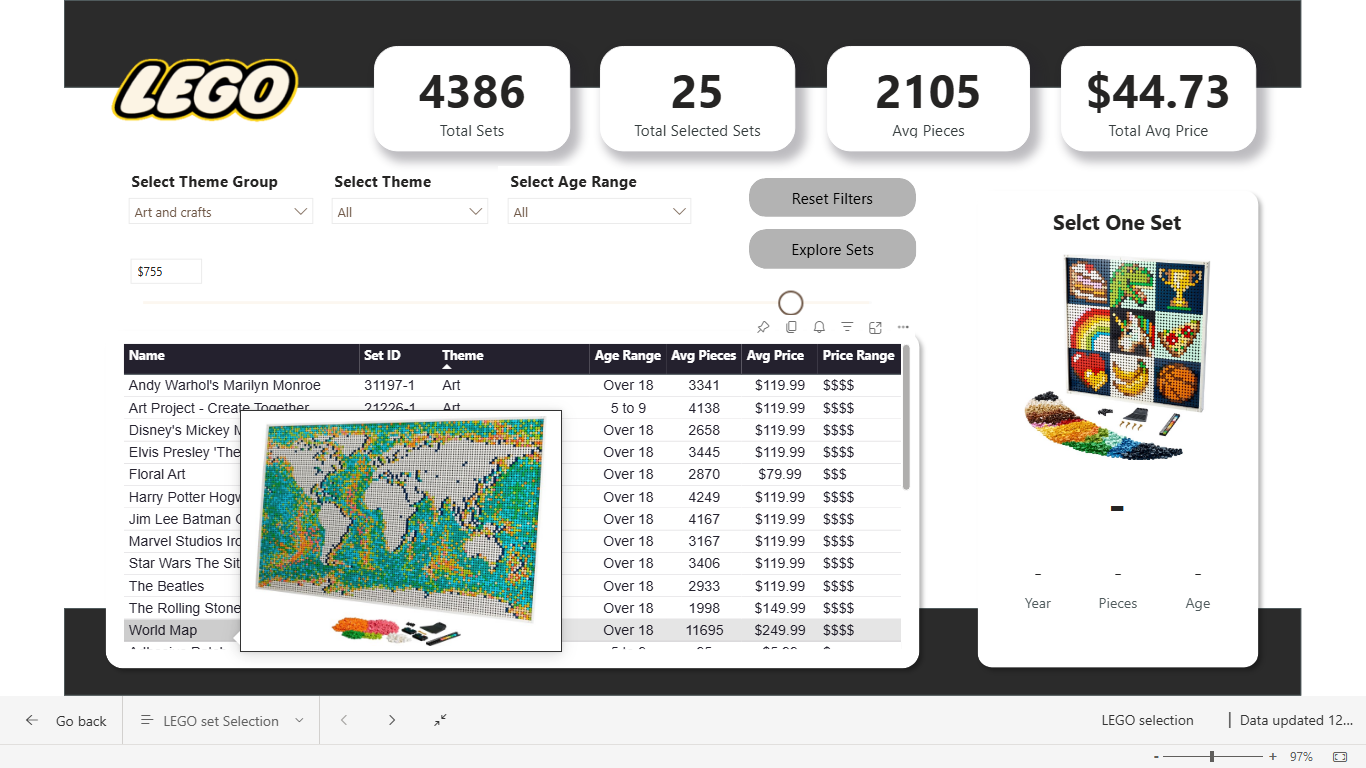

The dashboard page shown, as its layout file describes it:
{"tool":"powerbi","page":{"name":"LEGO set Selection","canvas":[1280,720],"ordinal":0},"visuals":[{"type":"slicer","fields":{"Values":["lego_sets.theme"]},"box":[267,172,181.7,67.4],"z":0},{"type":"shape","box":[0,0,1280,90.8],"z":1000},{"type":"shape","box":[0,629,1280,90.8],"z":2000},{"type":"card","fields":{"Values":["lego_sets.Total Sets"]},"box":[320.9,48,202.9,109.4],"z":3000},{"type":"card","fields":{"Values":["lego_sets.Avg Pieces"]},"box":[789.4,48,210.3,109.4],"z":4000},{"type":"card","fields":{"Values":["lego_sets.Total Avg Price"]},"box":[1031.6,48,201.7,109.4],"z":5000},{"type":"shape","box":[936,188.6,308.2,511.2],"z":6000},{"type":"slicer","fields":{"Values":["lego_sets.themeGroup"]},"box":[56.4,172,210.6,67.4],"z":7000},{"type":"card","fields":{"Values":["lego_sets.Selected Set"]},"box":[945.5,205.1,287.7,52.3],"z":8000},{"type":"shape","box":[34.6,332.6,859.7,367.2],"z":9000,"group":"g1"},{"type":"slicer","fields":{"Values":["lego_sets.Age Range"]},"box":[449,171.4,210.5,67.7],"z":9000},{"type":"tableEx","fields":{"Values":["lego_sets.name","lego_sets.set_id","lego_sets.theme","lego_sets.Age Range","lego_sets.Avg Pieces","lego_sets.Avg Price","lego_sets.Price Range"]},"box":[56.7,349.7,825.1,326.4],"z":10000,"group":"g1"},{"type":"simpleImageEBC4593F96F1425FB3D84C5BF02B5075","fields":{"imageURL":["lego_sets.imageURL"]},"box":[945.5,257.4,287.7,223],"z":10000},{"type":"card","fields":{"Values":["lego_sets.Selected price"]},"box":[945.5,480.3,287.7,77.1],"z":11000},{"type":"card","fields":{"Values":["lego_sets.Selected Year"]},"box":[966.2,567.1,82.6,74.3],"z":12000},{"type":"card","fields":{"Values":["lego_sets.Selected Pieces"]},"box":[1048.8,567.1,82.6,74.3],"z":13000},{"type":"card","fields":{"Values":["lego_sets.Selected Age"]},"box":[1131.4,567.1,82.6,74.3],"z":14000},{"type":"image","box":[0,0,281.6,159.8],"z":15000},{"type":"slicer","fields":{"Values":["Max Price.Max Price"]},"box":[56.2,257.8,800.6,82.1],"z":16000},{"type":"group","id":"g1","title":"Group 1","box":[34.6,332.6,859.7,367.2],"z":17000},{"type":"actionButton","box":[708.5,184.3,172.8,40.3],"z":18000},{"type":"actionButton","box":[708.8,236.7,173.4,41.3],"z":19000},{"type":"card","fields":{"Values":["lego_sets.Total Selected Sets"]},"box":[554.5,48,201.7,109.4],"z":20000}]}

Visuals, with their boxes on the page's 1280x720 design canvas (x1, y1, x2, y2). These are canvas units, not pixel positions in the 1366x768 screenshot, which may show the page scaled, cropped or inside an application window:
slicer - lego_sets.theme: box=[267, 172, 449, 239]
shape: box=[0, 0, 1280, 91]
shape: box=[0, 629, 1280, 720]
card - lego_sets.Total Sets: box=[321, 48, 524, 157]
card - lego_sets.Avg Pieces: box=[789, 48, 1000, 157]
card - lego_sets.Total Avg Price: box=[1032, 48, 1233, 157]
shape: box=[936, 189, 1244, 700]
slicer - lego_sets.themeGroup: box=[56, 172, 267, 239]
card - lego_sets.Selected Set: box=[946, 205, 1233, 257]
shape: box=[35, 333, 894, 700]
slicer - lego_sets.Age Range: box=[449, 171, 660, 239]
tableEx - lego_sets.name x lego_sets.set_id: box=[57, 350, 882, 676]
simpleImageEBC4593F96F1425FB3D84C5BF02B5075 - lego_sets.imageURL: box=[946, 257, 1233, 480]
card - lego_sets.Selected price: box=[946, 480, 1233, 557]
card - lego_sets.Selected Year: box=[966, 567, 1049, 641]
card - lego_sets.Selected Pieces: box=[1049, 567, 1131, 641]
card - lego_sets.Selected Age: box=[1131, 567, 1214, 641]
image: box=[0, 0, 282, 160]
slicer - Max Price.Max Price: box=[56, 258, 857, 340]
"Group 1" group: box=[35, 333, 894, 700]
actionButton: box=[708, 184, 881, 225]
actionButton: box=[709, 237, 882, 278]
card - lego_sets.Total Selected Sets: box=[554, 48, 756, 157]
